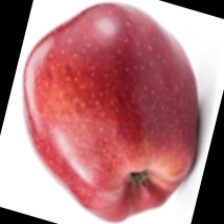apple: (29, 0, 168, 201)
